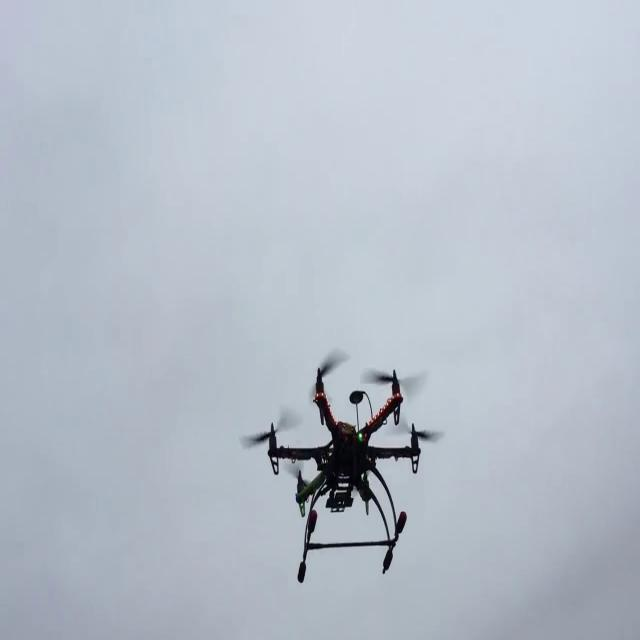drone: (253, 349, 435, 596)
